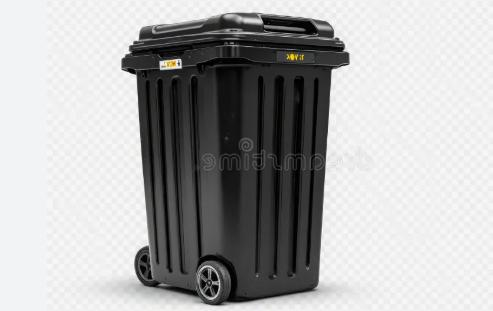garbage container: (118, 8, 354, 310)
